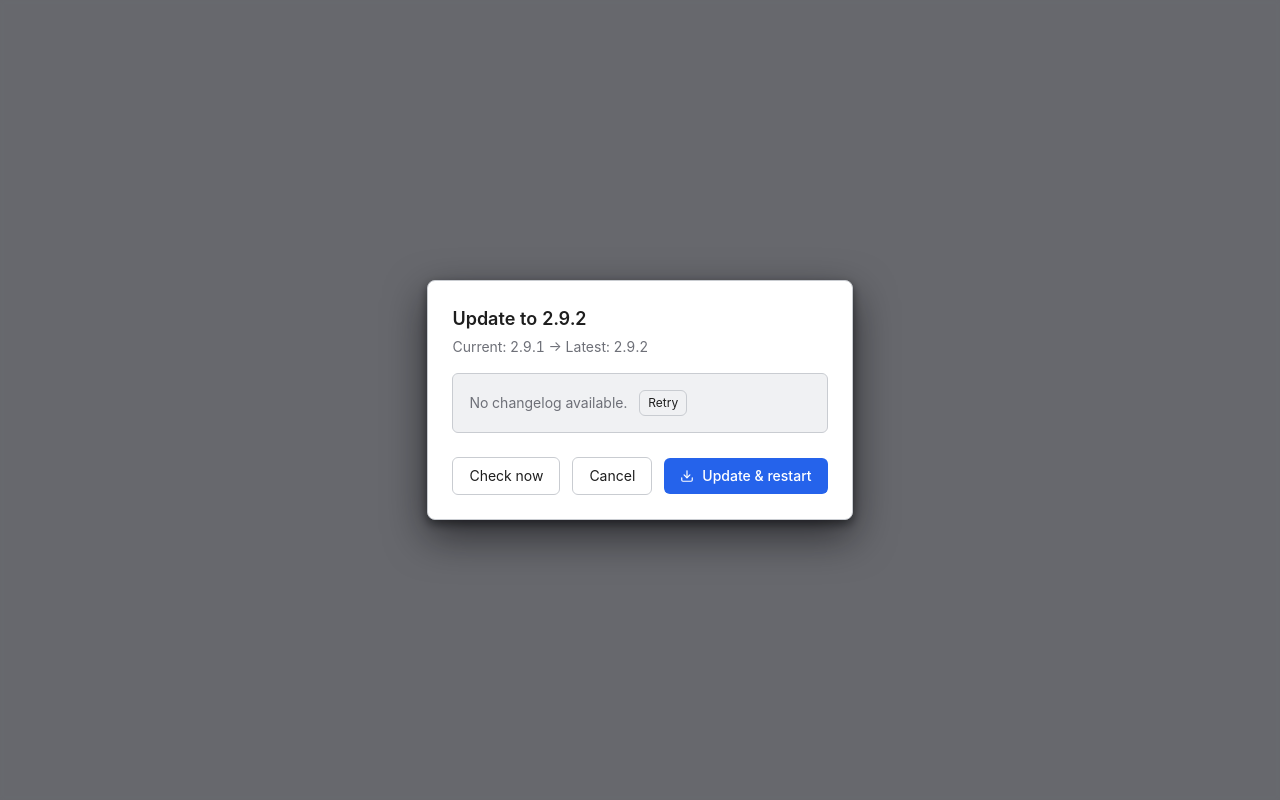
Test: UpdateDialog empty-changelog recovery › offers a retry on the empty state that actually re-fetches
This screenshot has width=1280, height=800.
Click the button "Retry": (663, 403) 639,390 -> 687,416
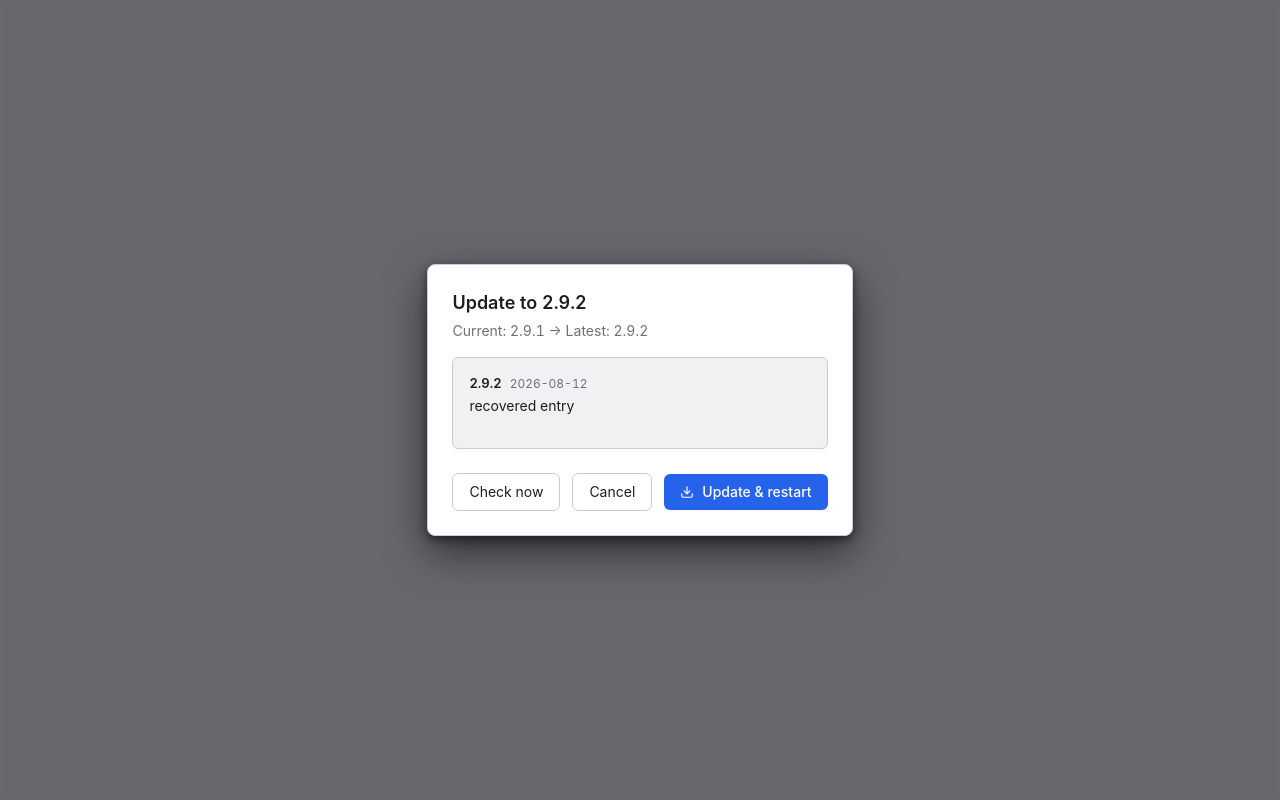
Result: the list item "recovered entry" is shown at 469,397 -> 574,414
